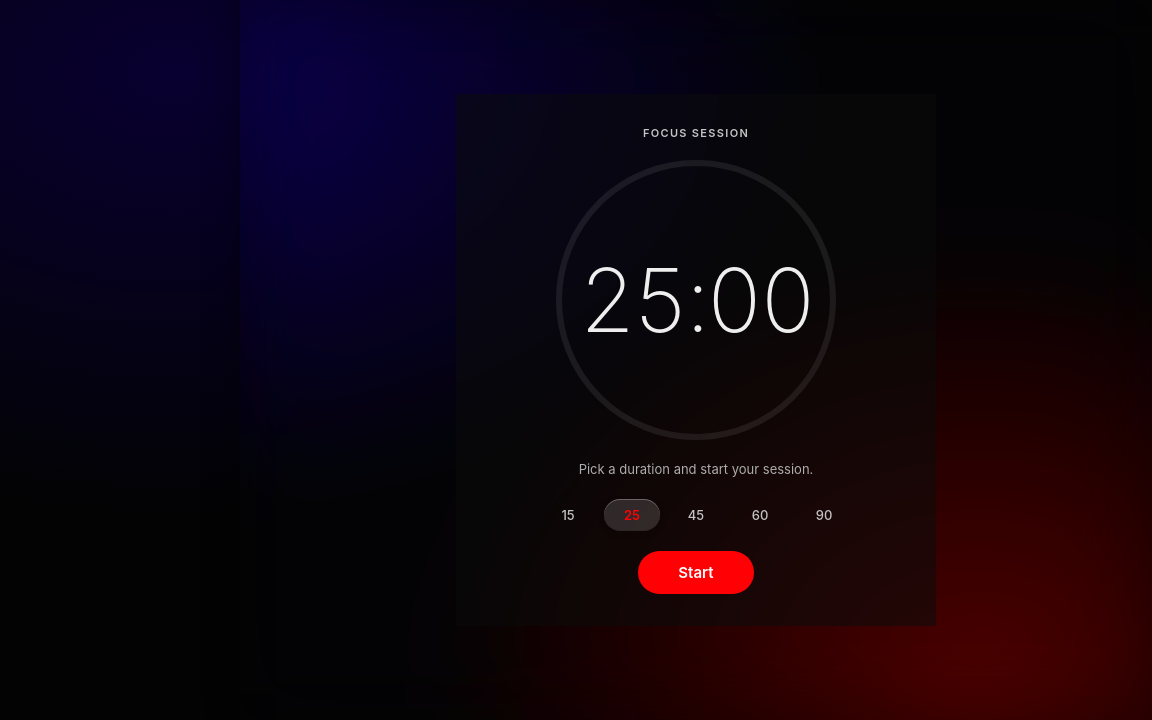
Test: FocusTimer › idle: clicking the 15-minute chip sets the readout, Start latches running
Click the button named "15 minutes".
click(568, 515)  # box [540, 499, 596, 531]
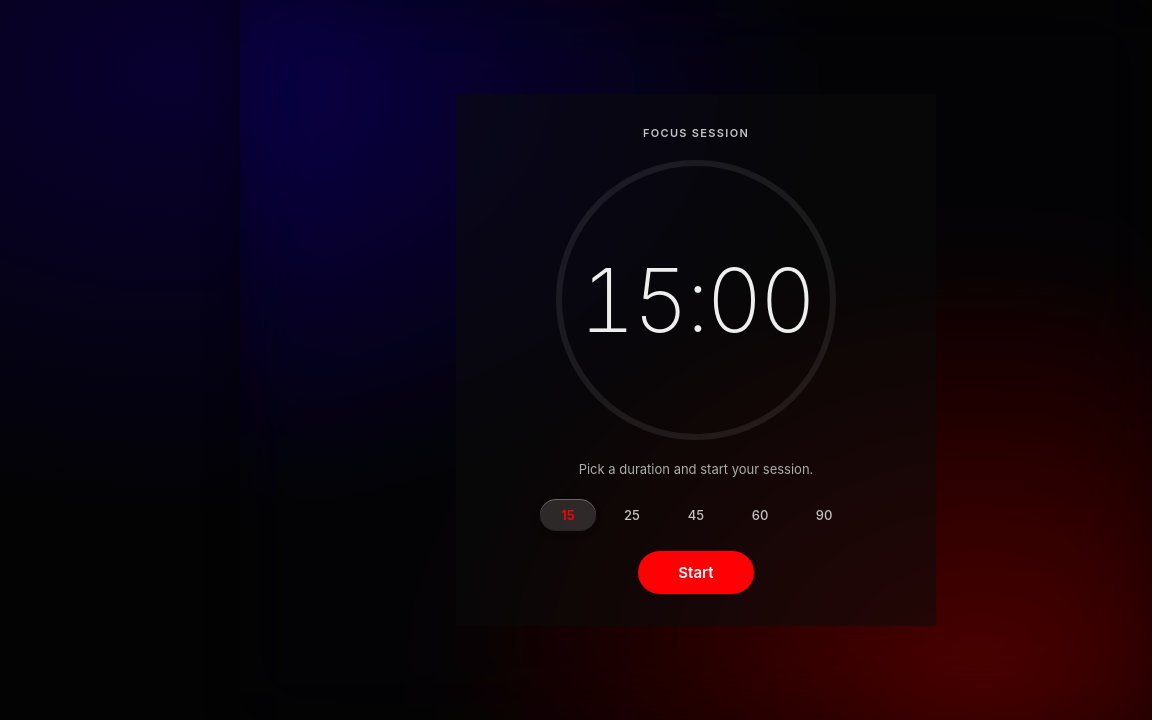
Expected: the text "15:00" is shown, [579, 256, 813, 344]
Click the button "Start".
click(696, 573)  # box [638, 551, 754, 594]
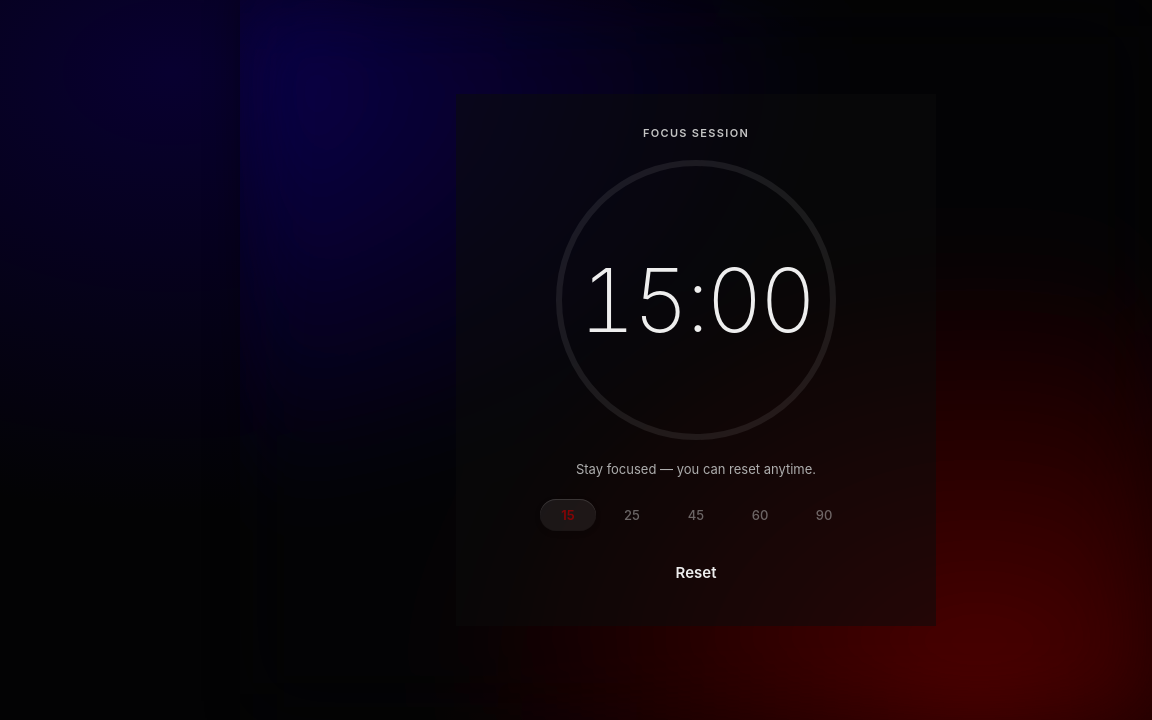
Expected: the button "Reset" is shown, [636, 551, 756, 594]
